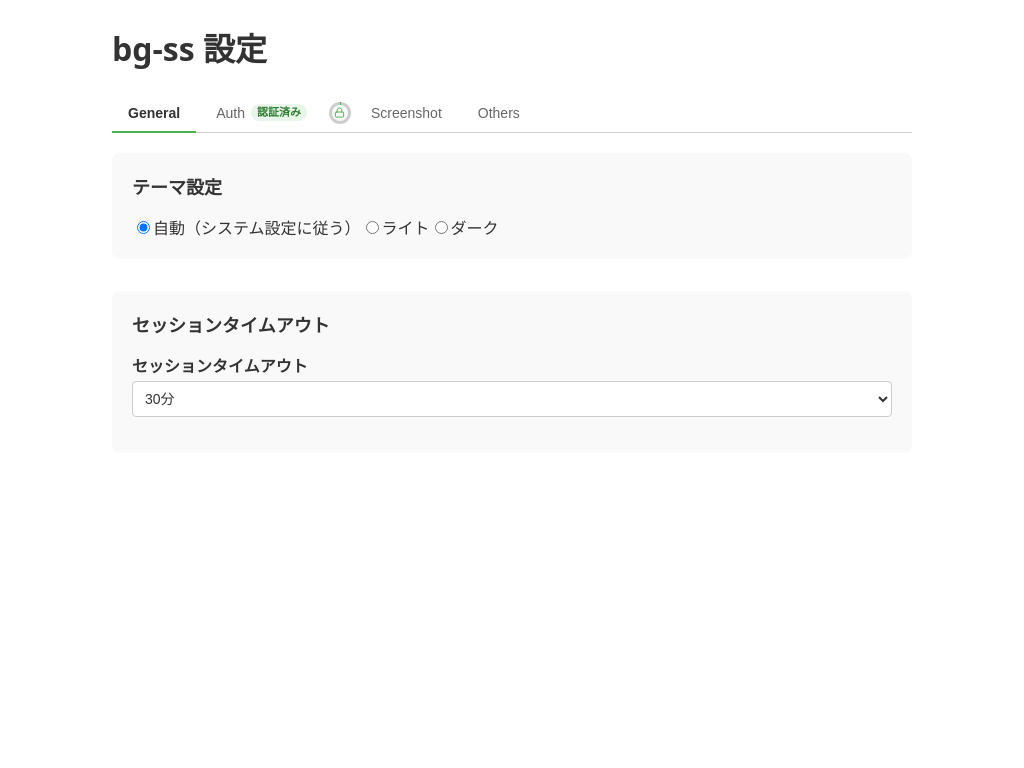
Options App › 保存ハイライト › テーマ変更: テーマセクションがハイライトされ「テーマを適用しました」
This screenshot has width=1024, height=768.
Click the radio button labelled "ダーク" at (441, 228), box [434,221,448,234]
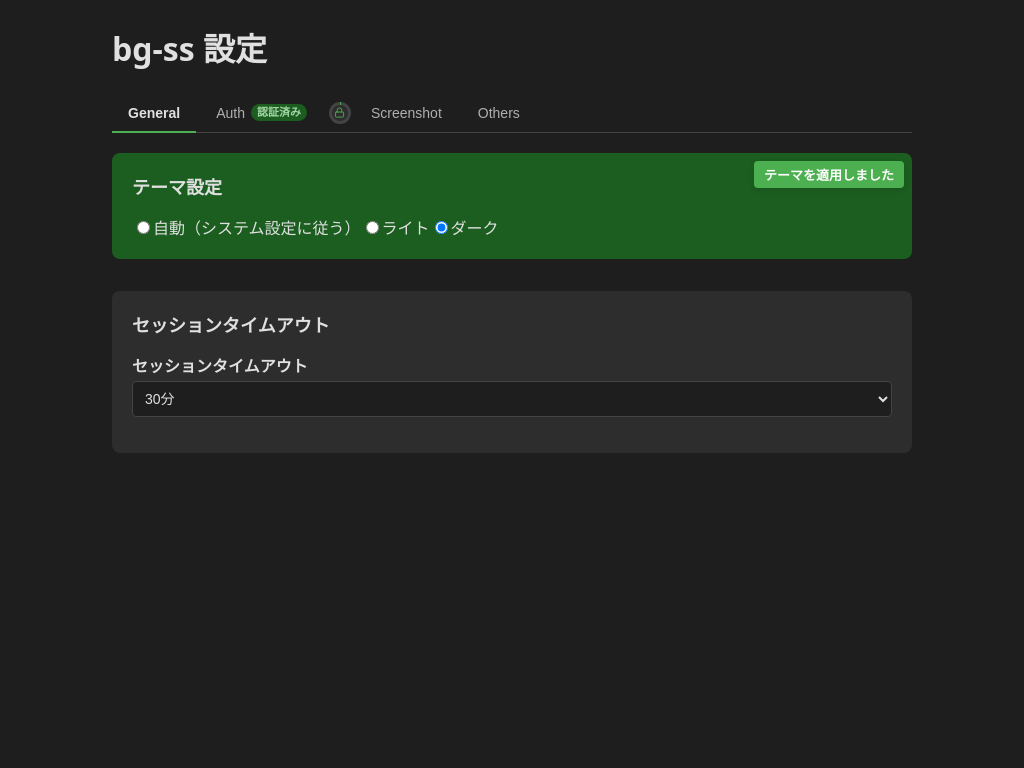
Expected: the element with class "section--saved" is shown, [112,153,912,259]
Expected: the text with class "inline-notice" reads "テーマを適用しました", [764,166,894,184]
